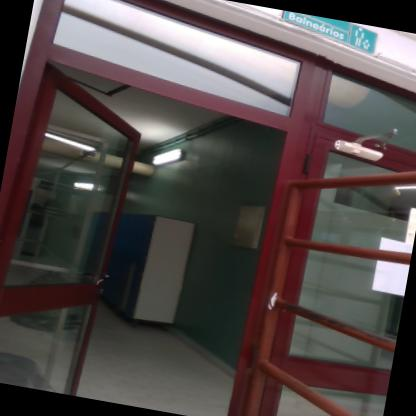semi: (0, 36, 305, 415)
